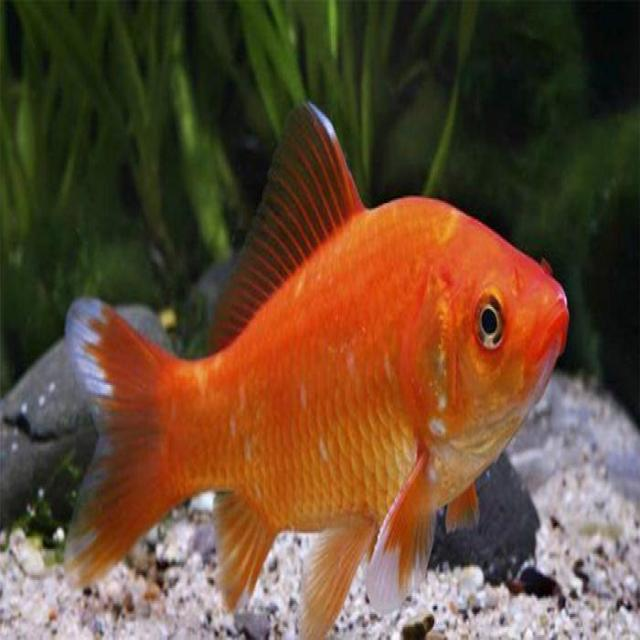GoldFish: (58, 101, 574, 636)
